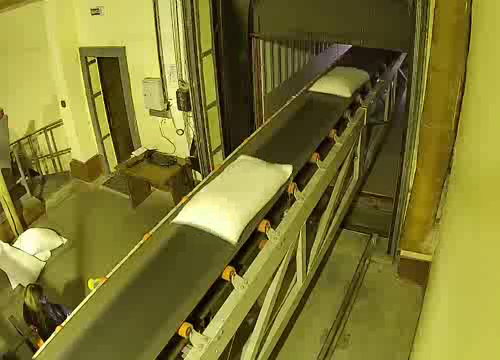bag: (165, 150, 300, 250), (308, 63, 374, 102)
